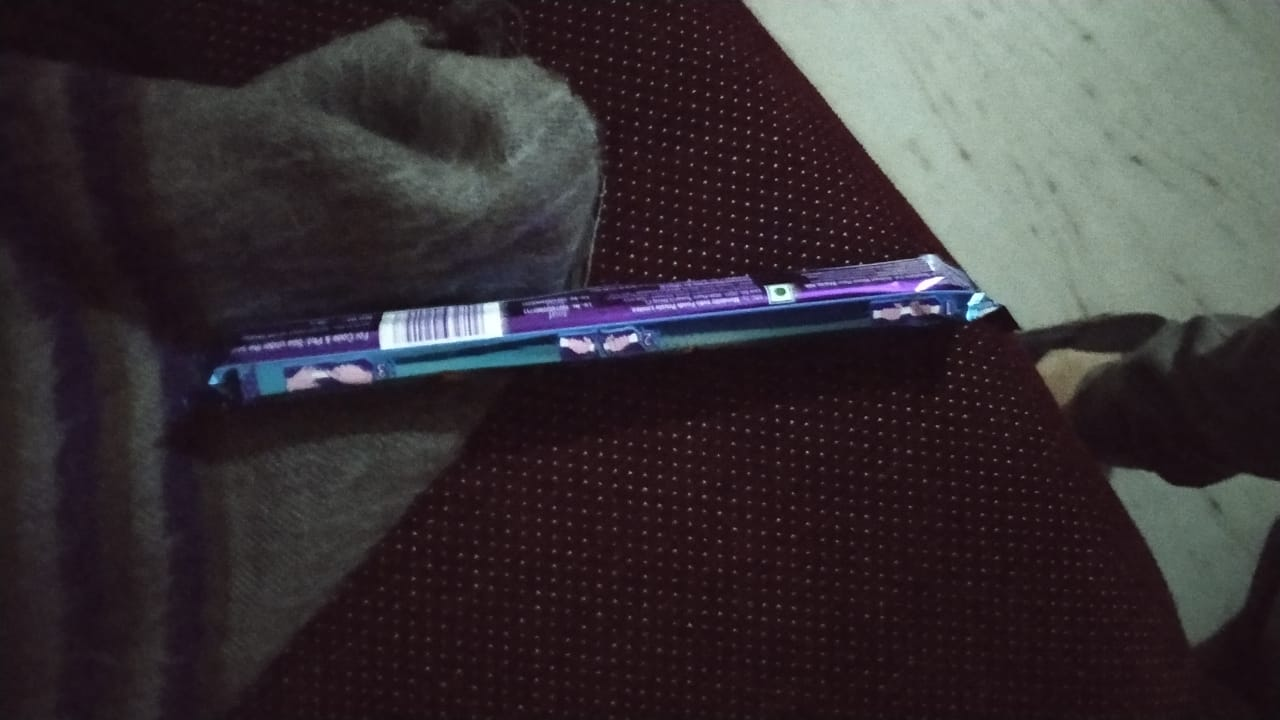perk: (203, 248, 1007, 408)
